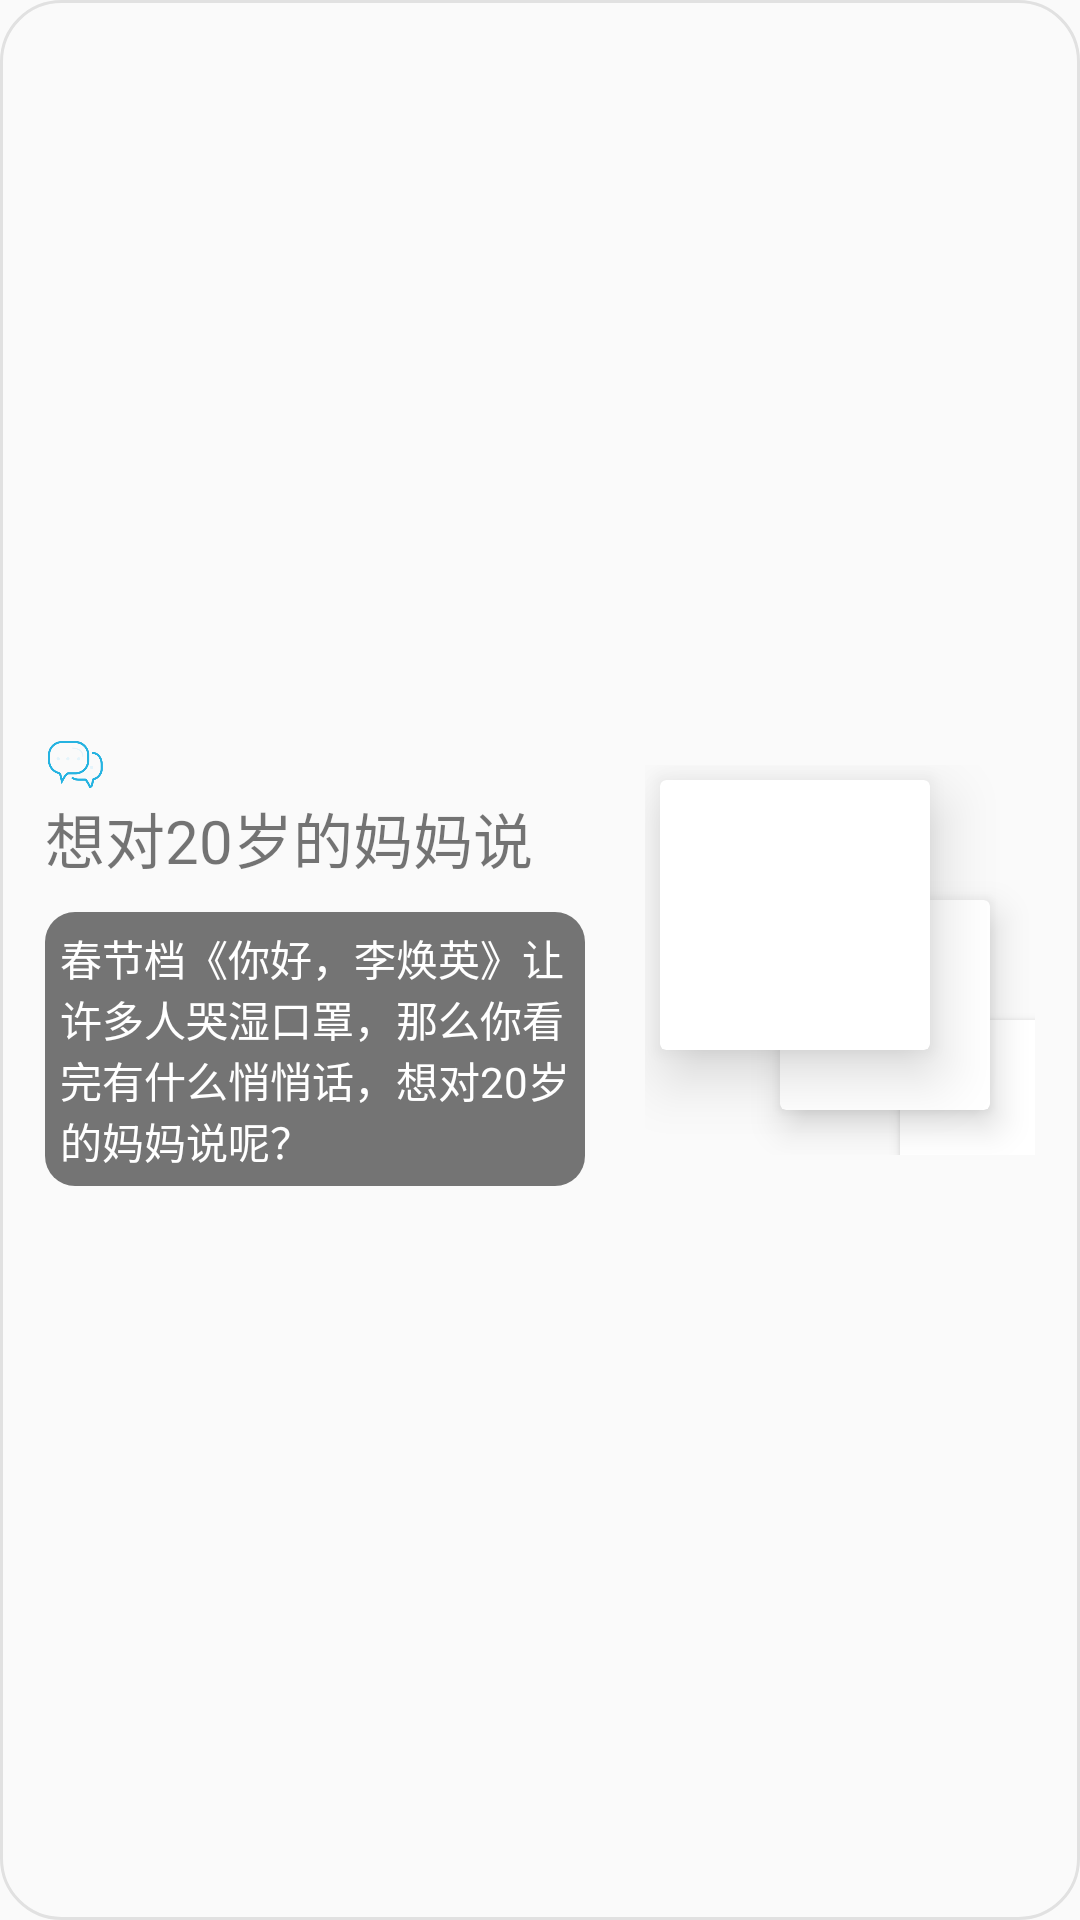

Where icons sit on this 1080px x 1920px app screen, as BBox(x1, y1, x2, y2):
topic: BBox(48, 741, 103, 788)
